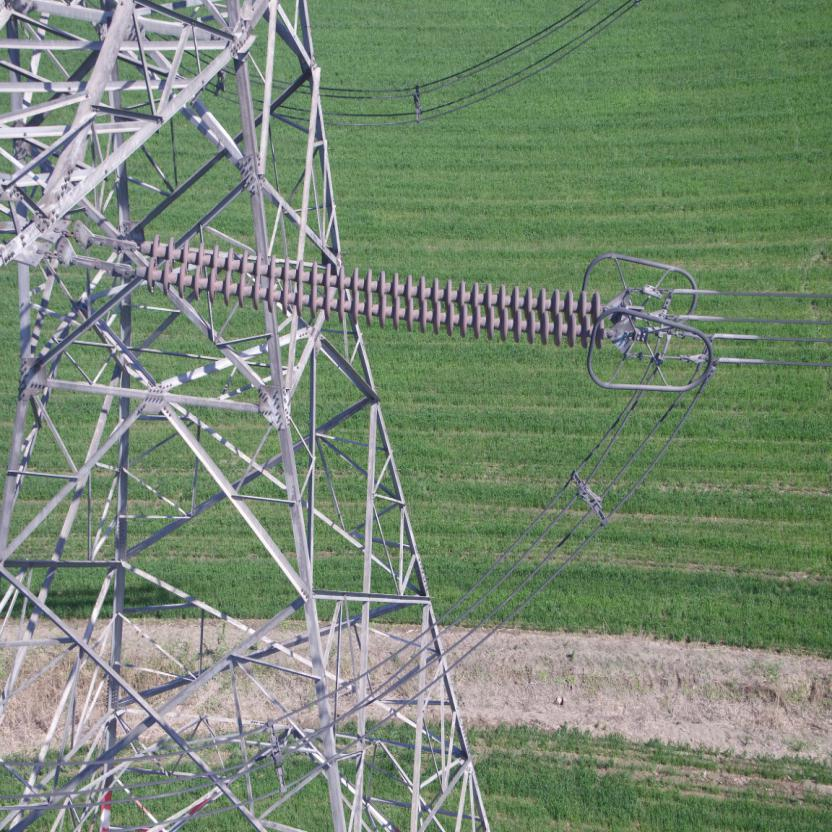insulator: (100, 230, 618, 350)
